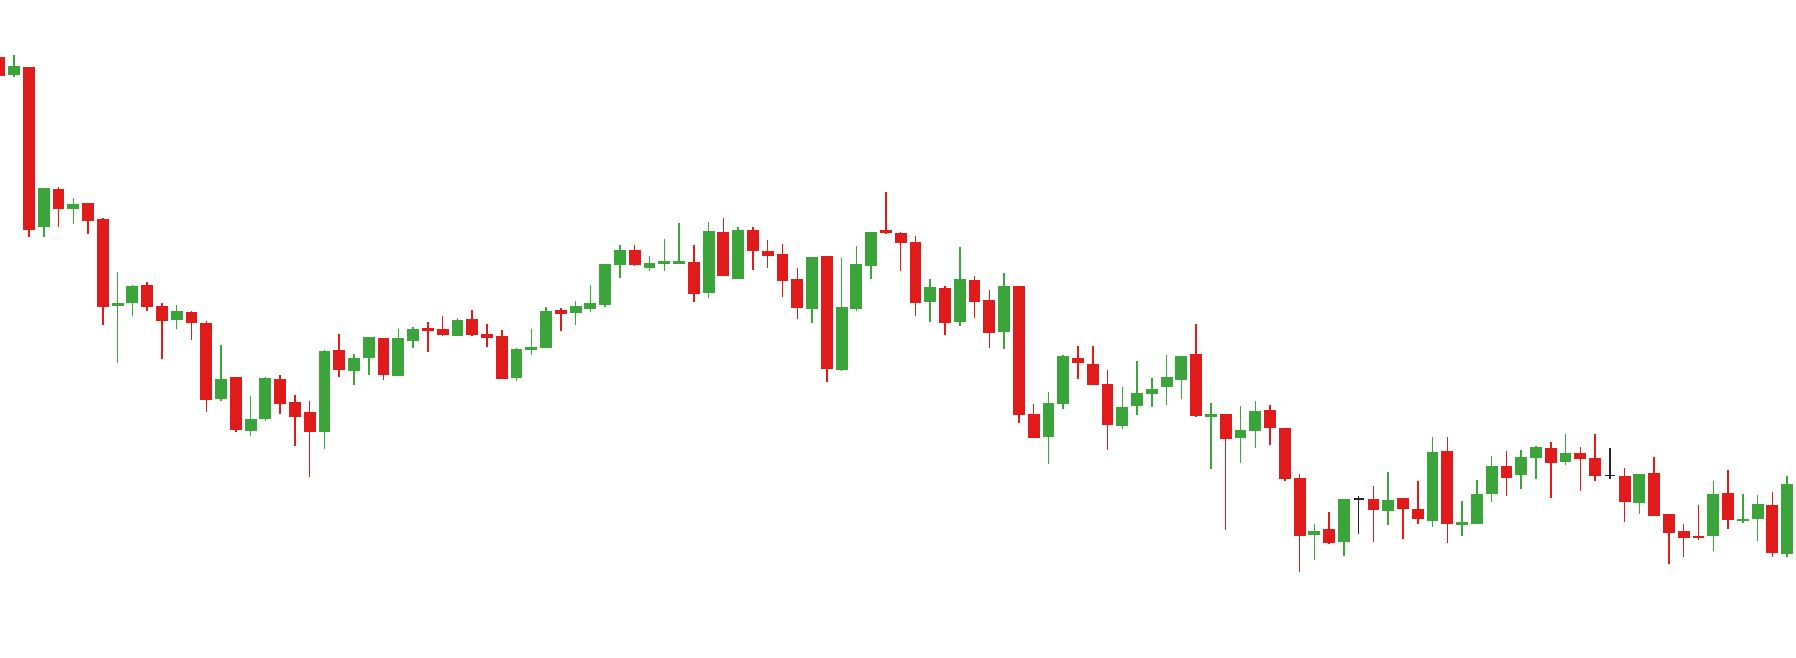buy: (226, 379, 320, 477)
sell: (716, 188, 892, 305), (1072, 322, 1207, 433)
